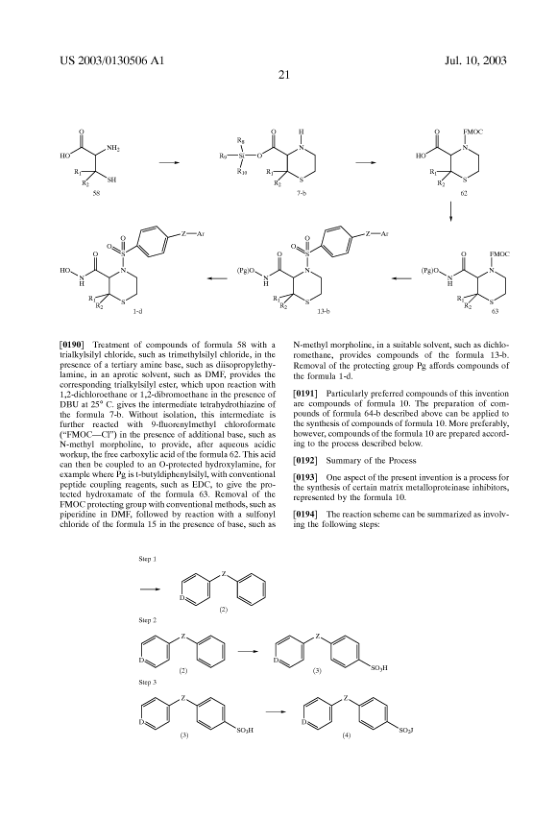compound-structure: (230, 209, 390, 317), (56, 206, 203, 319), (415, 239, 524, 316), (218, 123, 324, 198), (135, 691, 255, 745), (297, 691, 417, 741), (175, 561, 282, 617), (269, 630, 389, 678), (413, 125, 492, 197), (58, 119, 122, 196), (136, 629, 235, 677)
reaction: (34, 96, 549, 329), (102, 543, 435, 761)
reaction-arrow: (153, 152, 184, 170), (260, 705, 288, 721), (132, 582, 165, 595), (208, 272, 228, 288), (354, 156, 378, 168), (238, 647, 260, 660), (391, 275, 411, 285), (448, 201, 453, 223)
